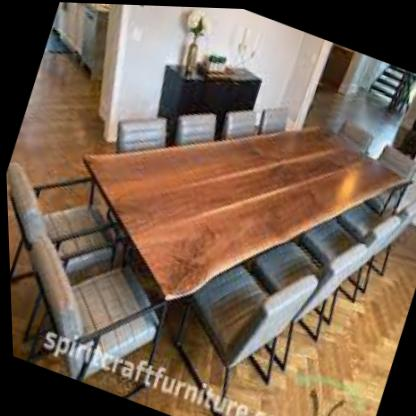Dining Table: (0, 16, 416, 416)
Wooden floor: (230, 224, 416, 416), (8, 28, 112, 189), (6, 195, 42, 361)
